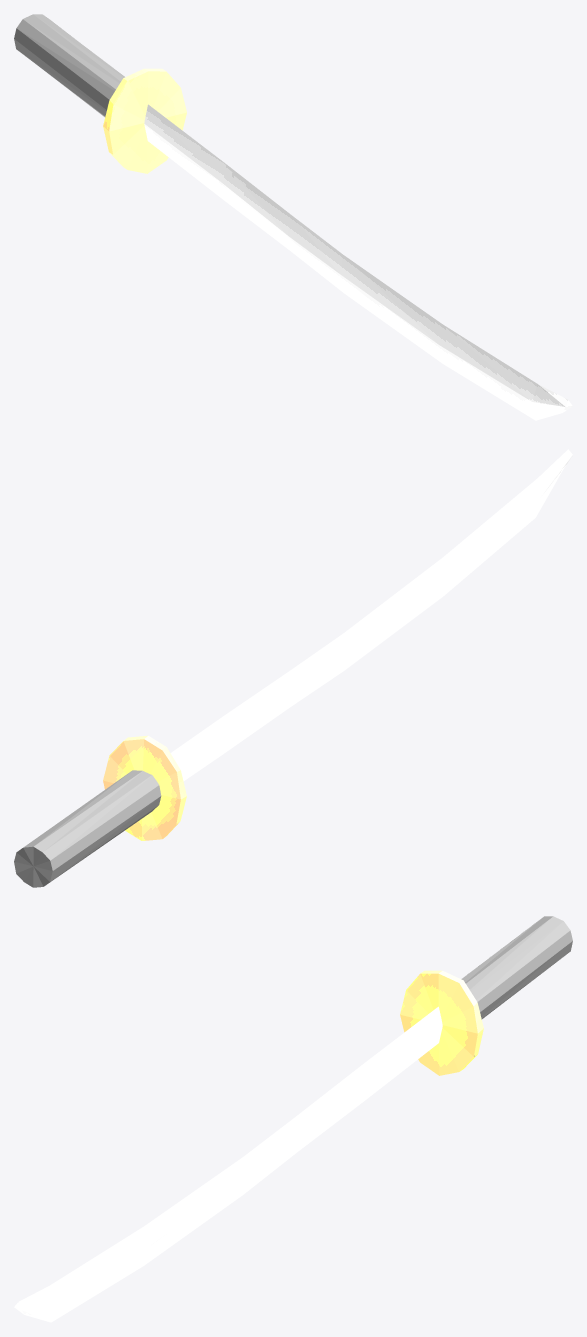
Rendered from g_katana.glb.
The picture shows the model from 3 angles, top to bottom: view 1: azimuth 30°, elevation 25°; view 2: azimuth 150°, elevation 25°; view 3: azimuth 330°, elevation 25°; orthographic projection.
Visible parts, largest first — view 1: g_katana; view 2: g_katana; view 3: g_katana.
Part boxes in pixels (x1,y1,x2,y2): g_katana: (14, 14, 572, 420); g_katana: (14, 449, 572, 887); g_katana: (14, 916, 572, 1322).
Size of the model in its own units: 4.48 by 5.67 by 53.49.
